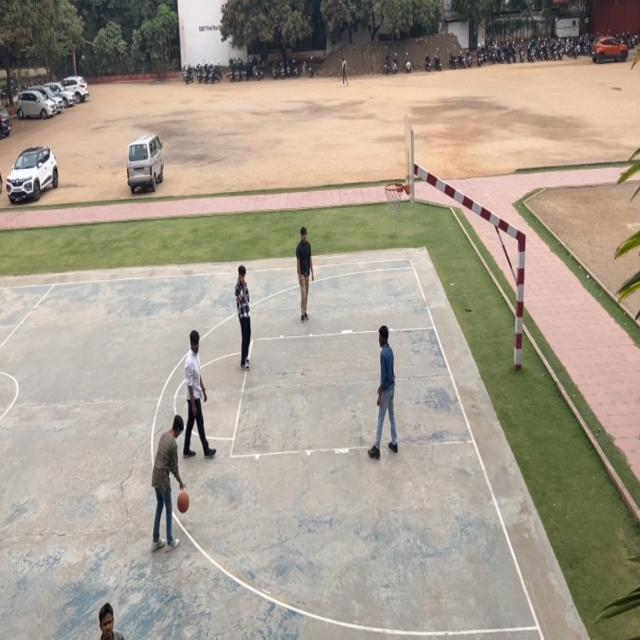basketball: (176, 489, 191, 517)
hoop: (382, 181, 404, 216)
